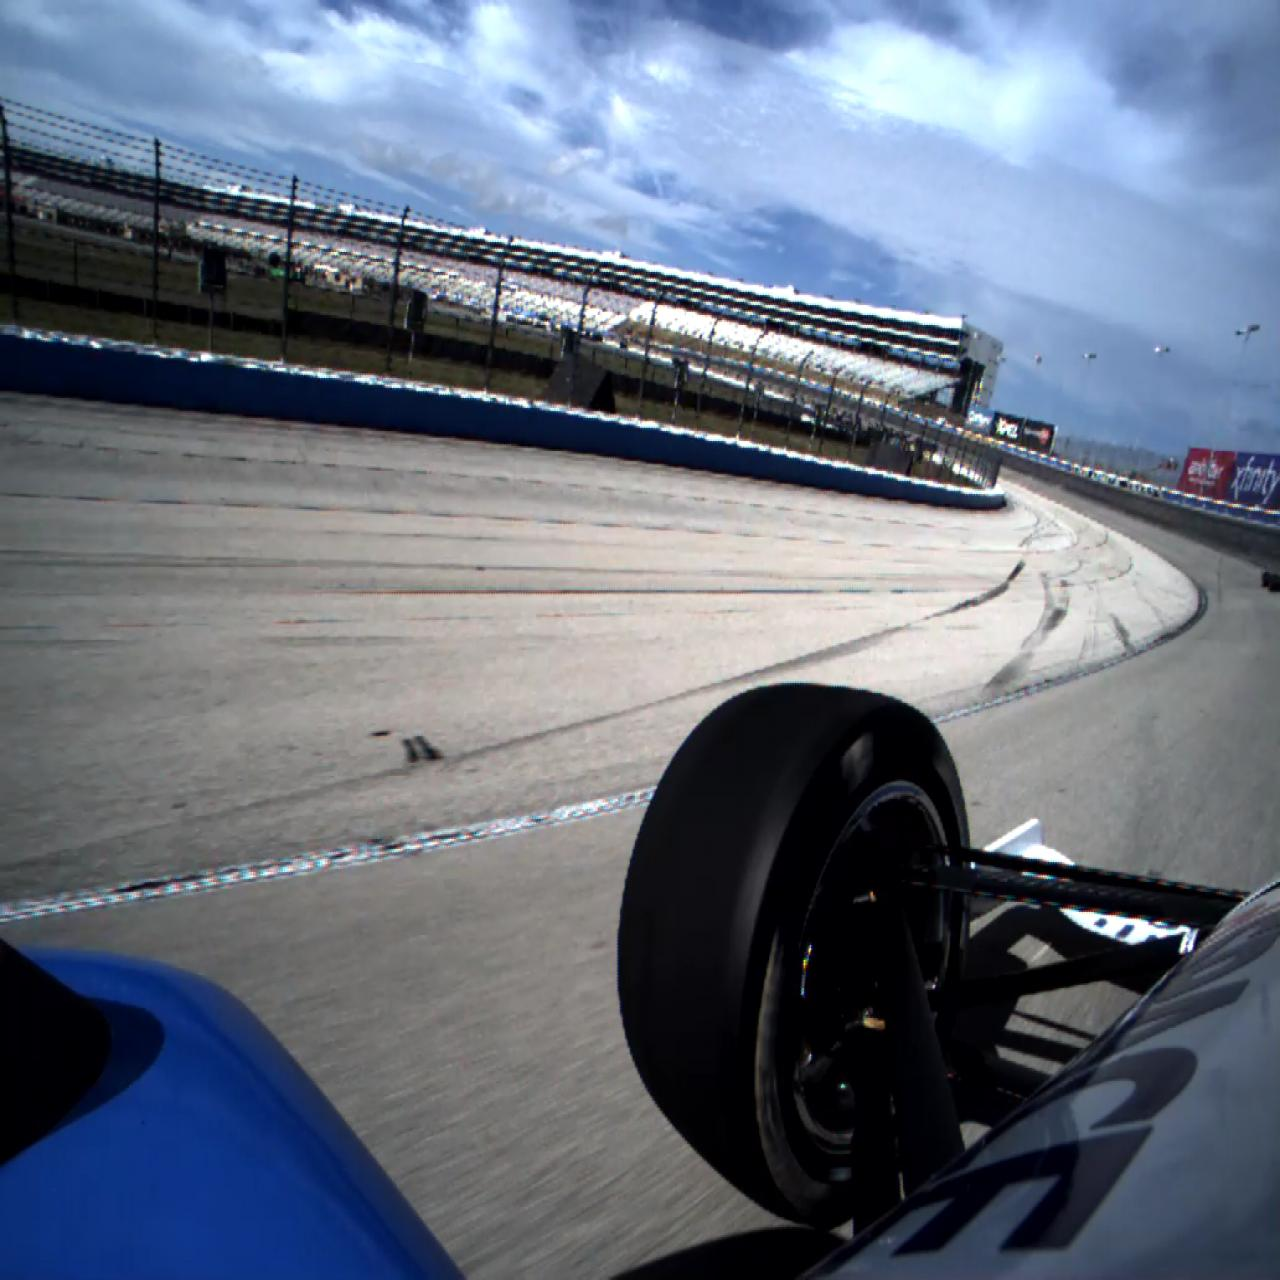Wheel: (617, 681, 971, 1228), (1269, 574, 1280, 592), (1261, 572, 1269, 587)
